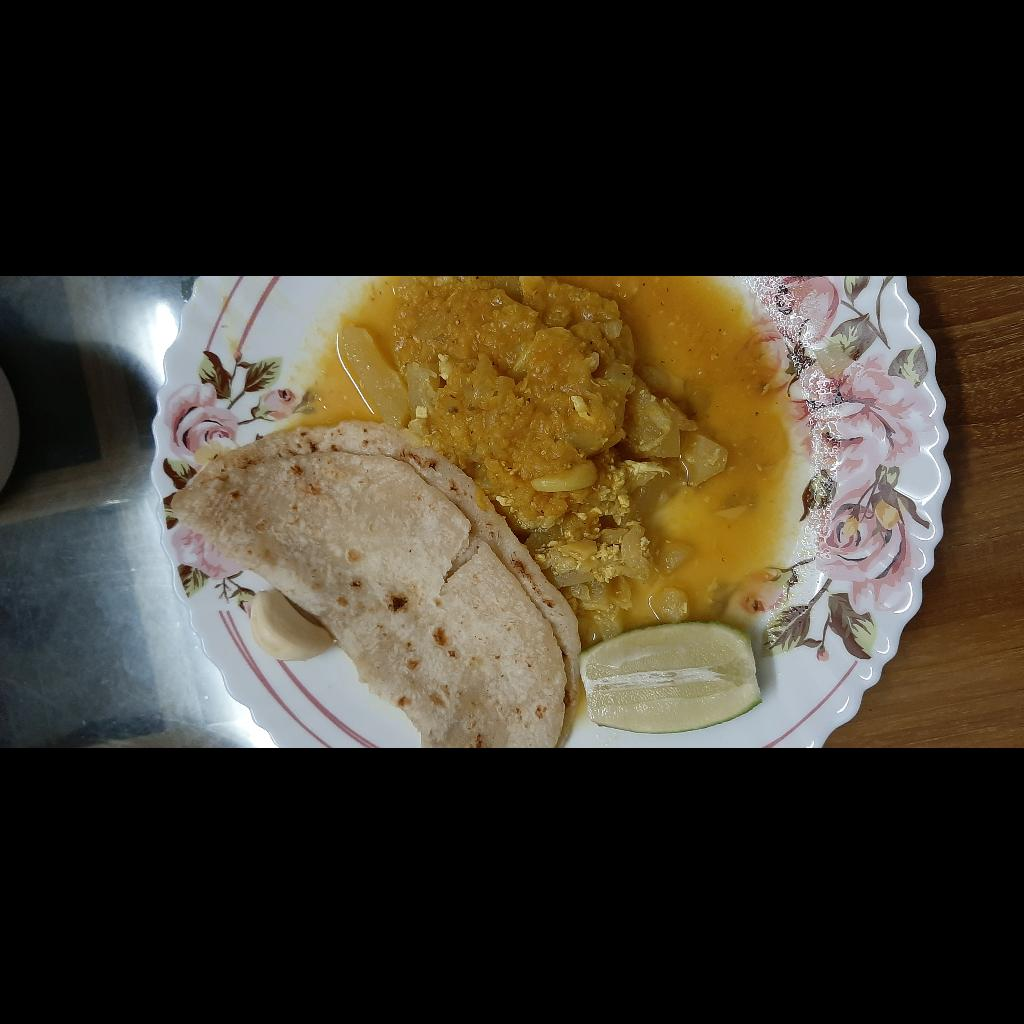daal: (119, 900, 469, 1024), (312, 555, 472, 674)
lemon: (17, 857, 125, 1024)
papaya: (119, 609, 472, 1012)
ruti: (3, 437, 327, 857)
